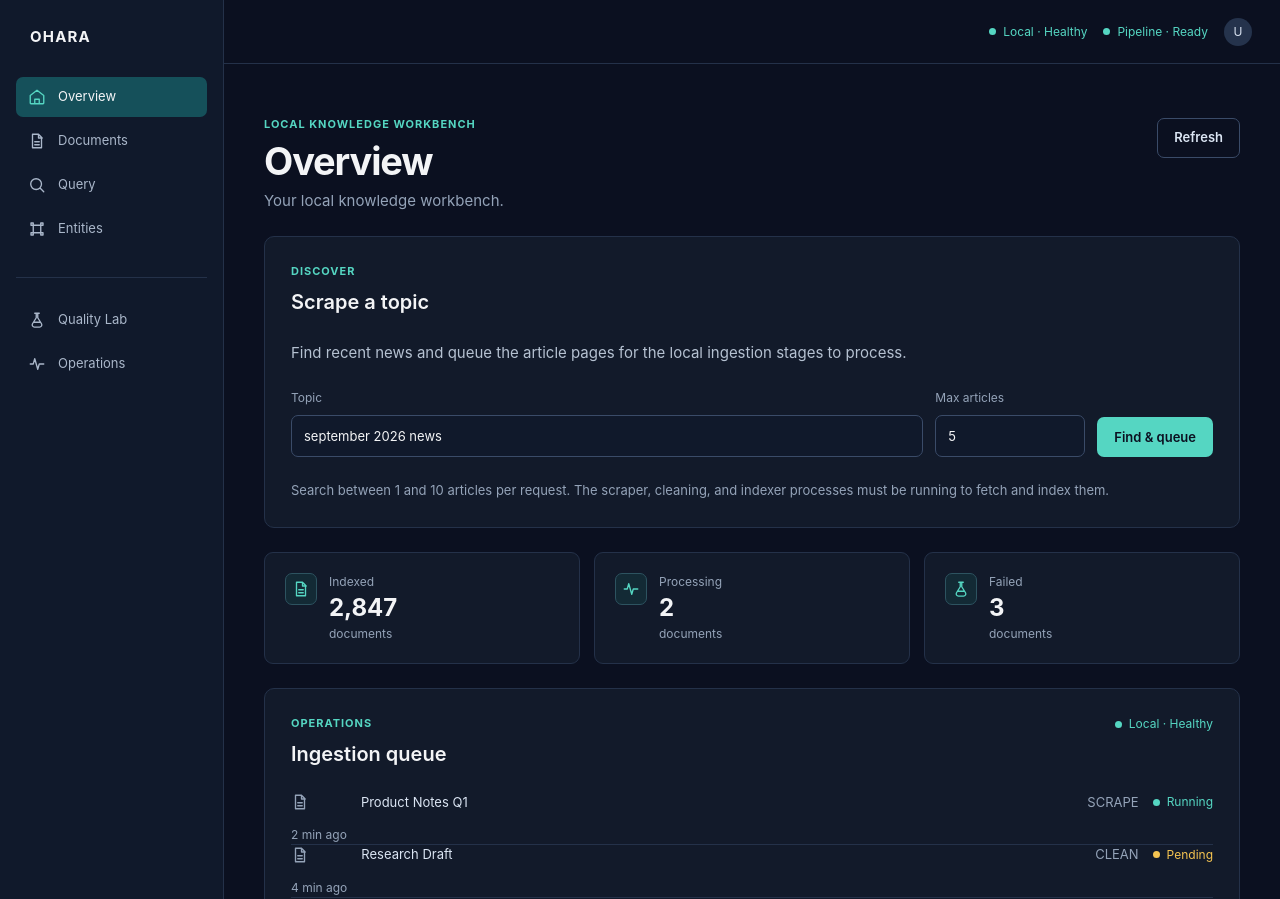
Test: App shell › refreshes ingestion status and announces the result
The image size is (1280, 899).
Click the button "Refresh" at (1199, 138), box [1157,118,1240,158]
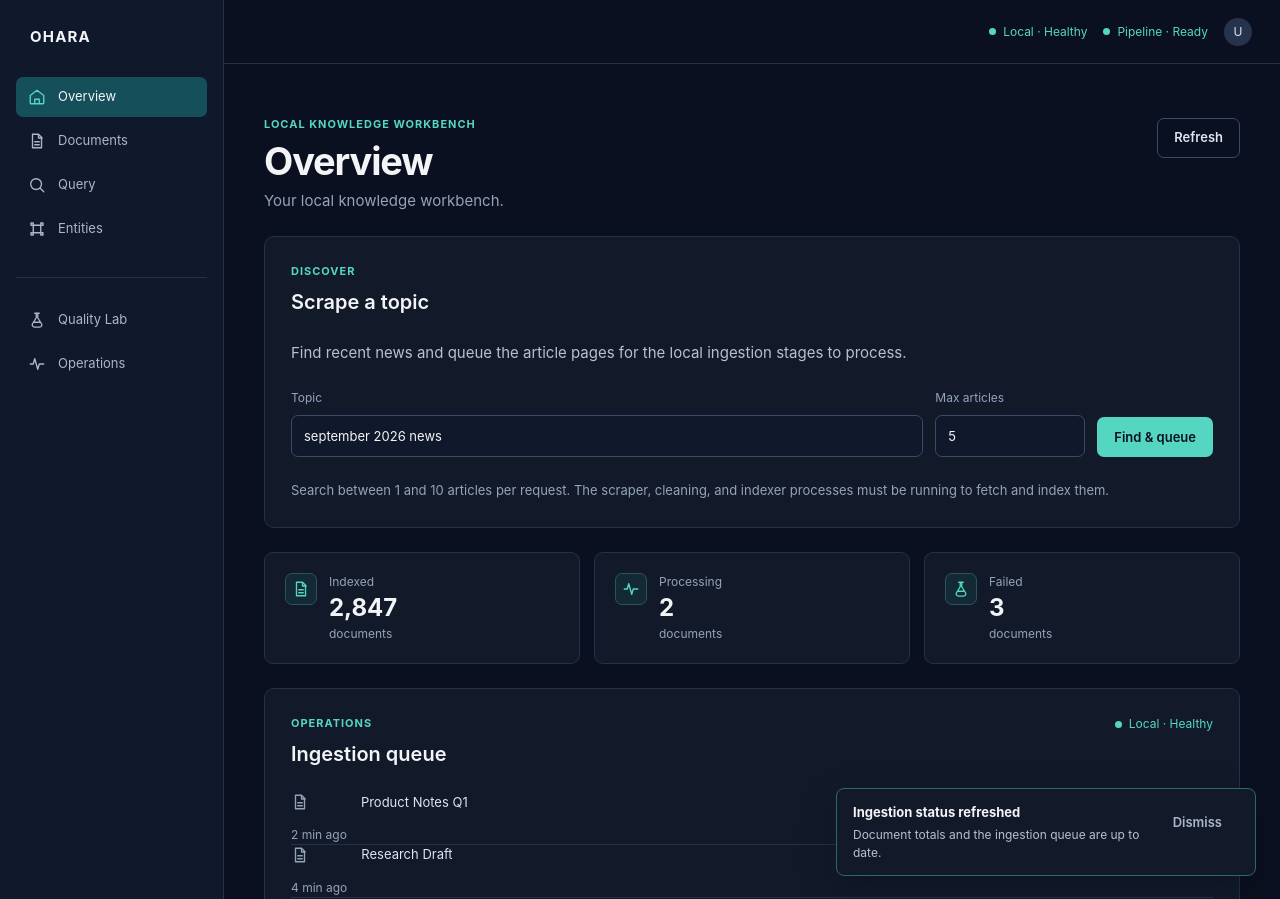
expect the text "Ingestion status refreshed" is shown: met, box [853,804,1020,820]
